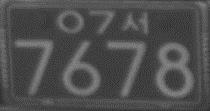0: (56, 9, 85, 35)
6: (61, 38, 102, 97)
7: (105, 39, 147, 97), (14, 37, 54, 96), (87, 7, 115, 35)
8: (155, 40, 195, 100)
서: (120, 9, 148, 35)
